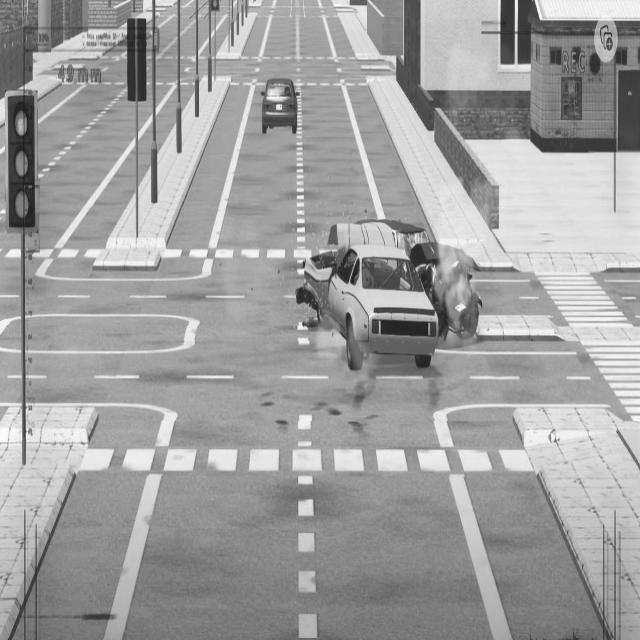accident: (294, 214, 488, 378)
vehicle: (259, 73, 301, 138)
